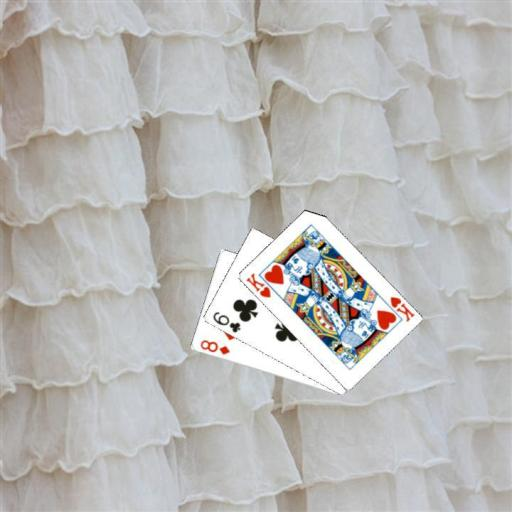6C: (209, 309, 242, 334)
8D: (197, 337, 231, 357)
KH: (243, 270, 272, 300), (387, 293, 415, 324)
